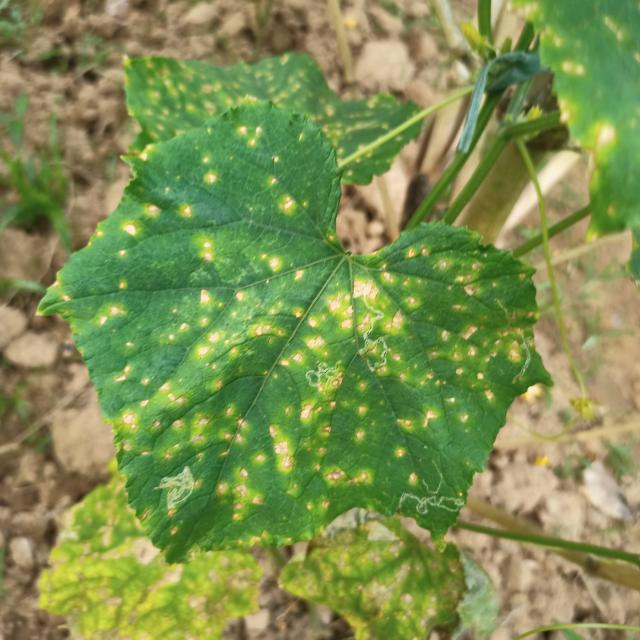disease_cucumber: (74, 236, 535, 525), (179, 206, 222, 268), (267, 154, 296, 219), (118, 197, 161, 240), (197, 148, 220, 192), (234, 123, 263, 152)
